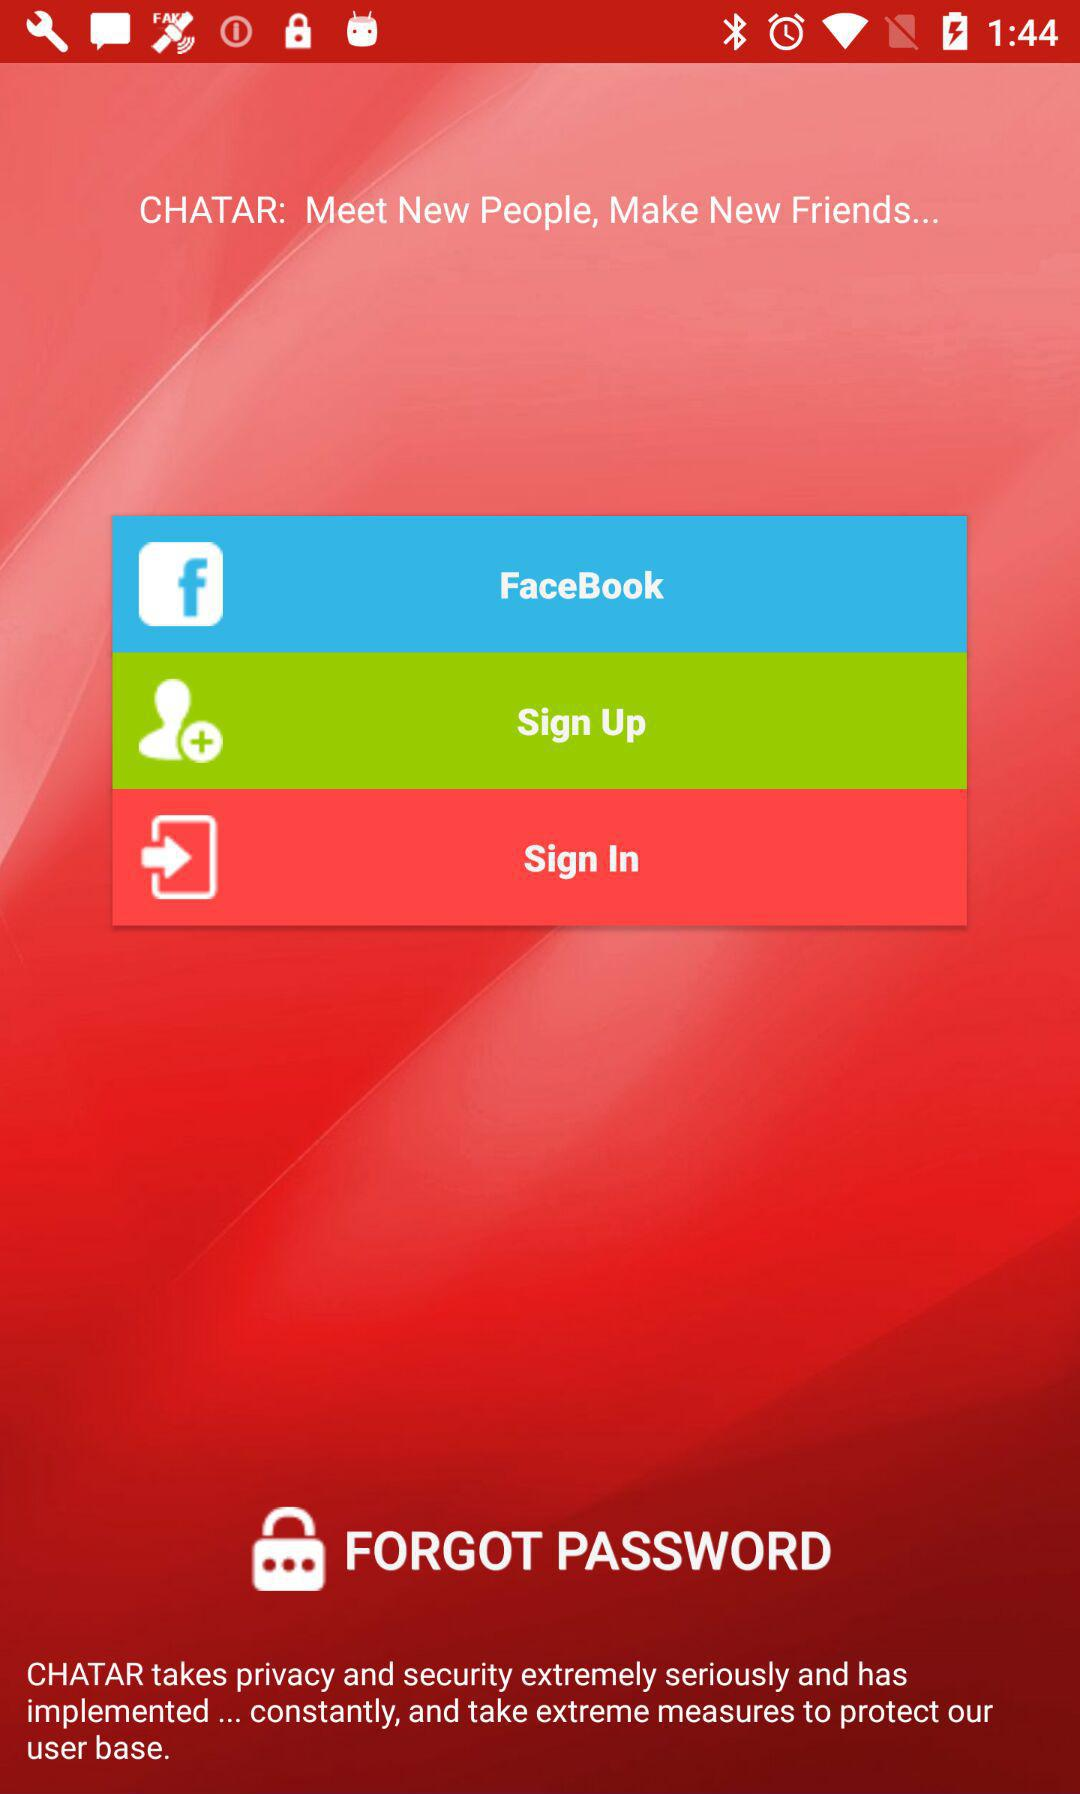Icon: (250, 1506, 328, 1593)
Text: (18, 1656, 1001, 1770), (138, 192, 939, 233), (346, 1529, 831, 1574)
TextButton: (111, 789, 969, 926), (111, 652, 969, 789), (111, 516, 969, 652)
UpperTaskBar: (1, 1, 1080, 64)
